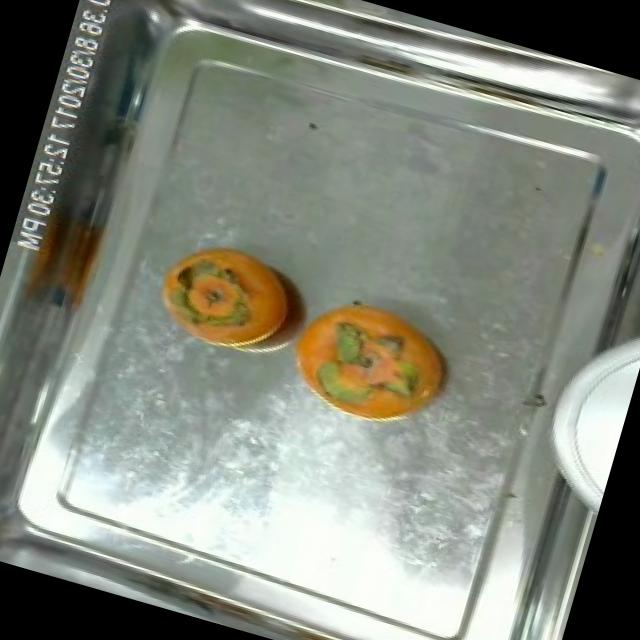Fruit: (274, 274, 474, 450), (140, 222, 316, 368)
